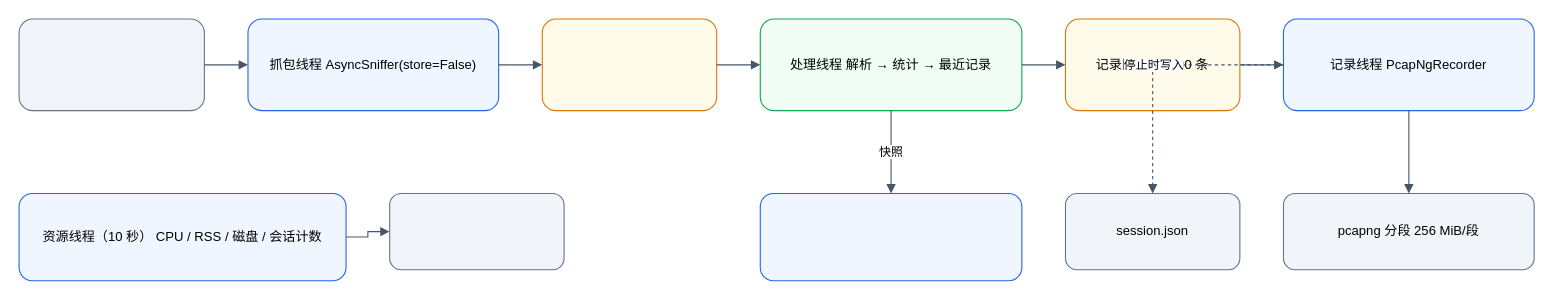
Some shapes in this 1553 by 300 pixel diagram are drawn without their labels. Each missing label, with the box of its shape:
Qt 主线程 每 250 ms 取快照刷新: (759, 192, 1022, 281)
resources.csv: (389, 192, 564, 270)
抓包队列 50 000 条: (541, 18, 717, 111)
网卡 / Npcap: (18, 18, 204, 111)
